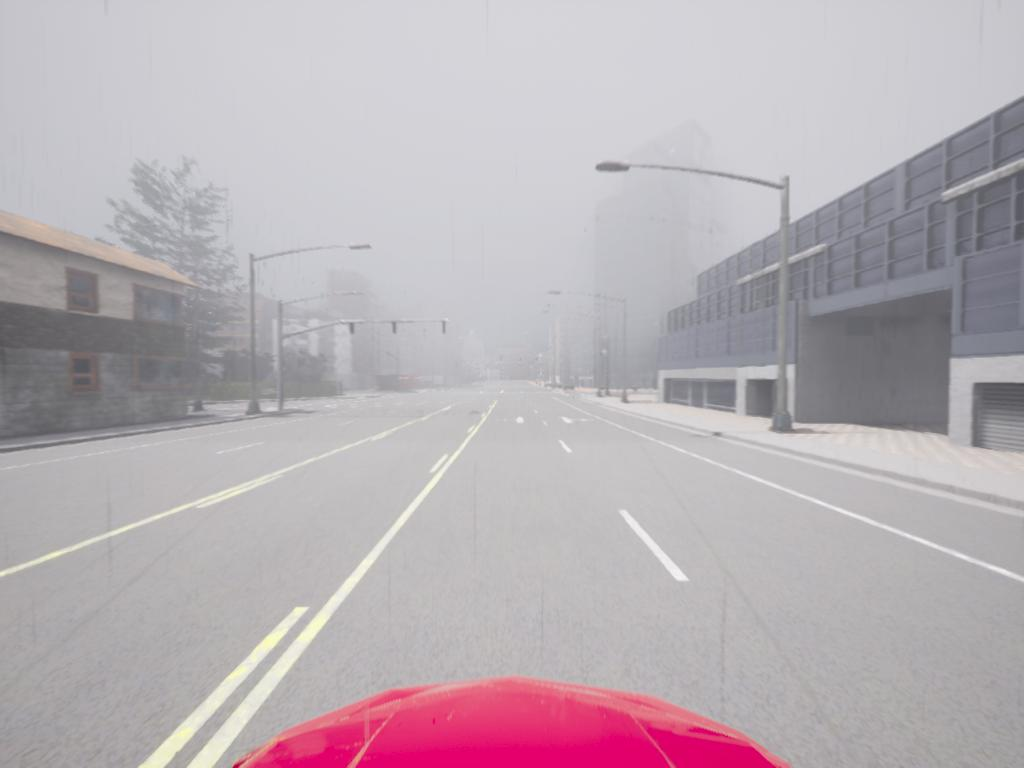traffic_light: (350, 323, 356, 335), (442, 322, 447, 335), (392, 322, 397, 335), (520, 358, 523, 366), (500, 357, 503, 364)
